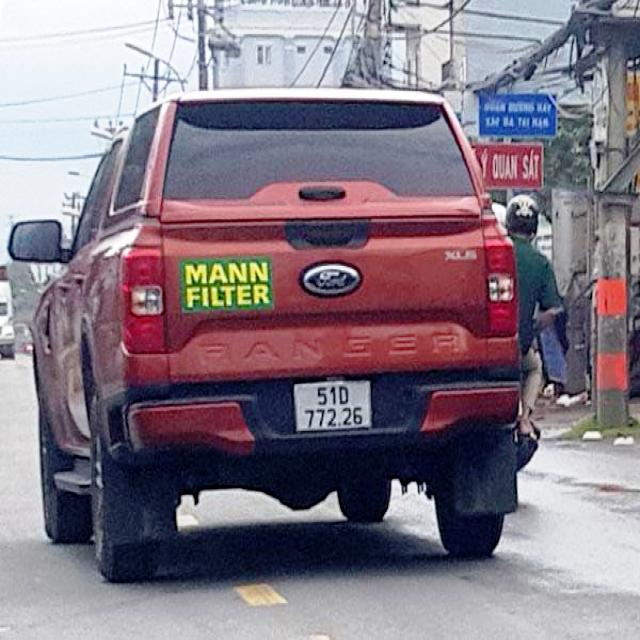license_plate: (295, 381, 373, 431)
